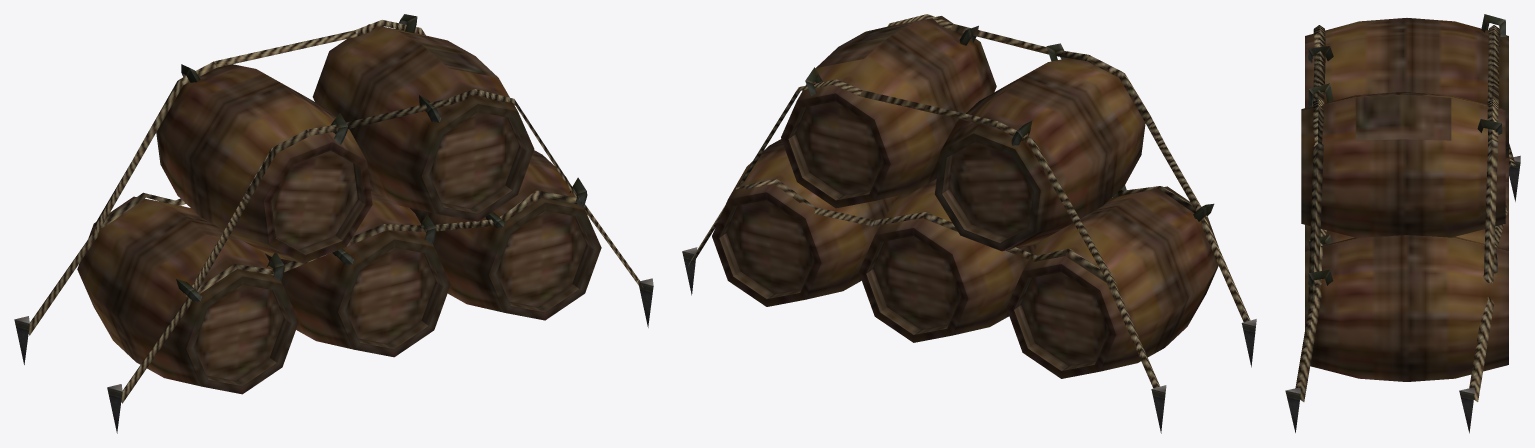
The model's file is GYMA00070.FBX.
The picture shows the model from 3 angles, left to right: view 1: azimuth 30°, elevation 25°; view 2: azimuth 150°, elevation 25°; view 3: azimuth 270°, elevation 25°; orthographic projection. The views are drawn at different scales.
Parts seen in each view (by area): view 1: MA00070; view 2: MA00070; view 3: MA00070.
Part boxes in pixels (x1,y1,x2,y2): MA00070: (14,14,653,433); MA00070: (682,14,1256,433); MA00070: (1285,14,1520,433).
Size of the model in its own units: 2.25 by 1.16 by 0.9414.
